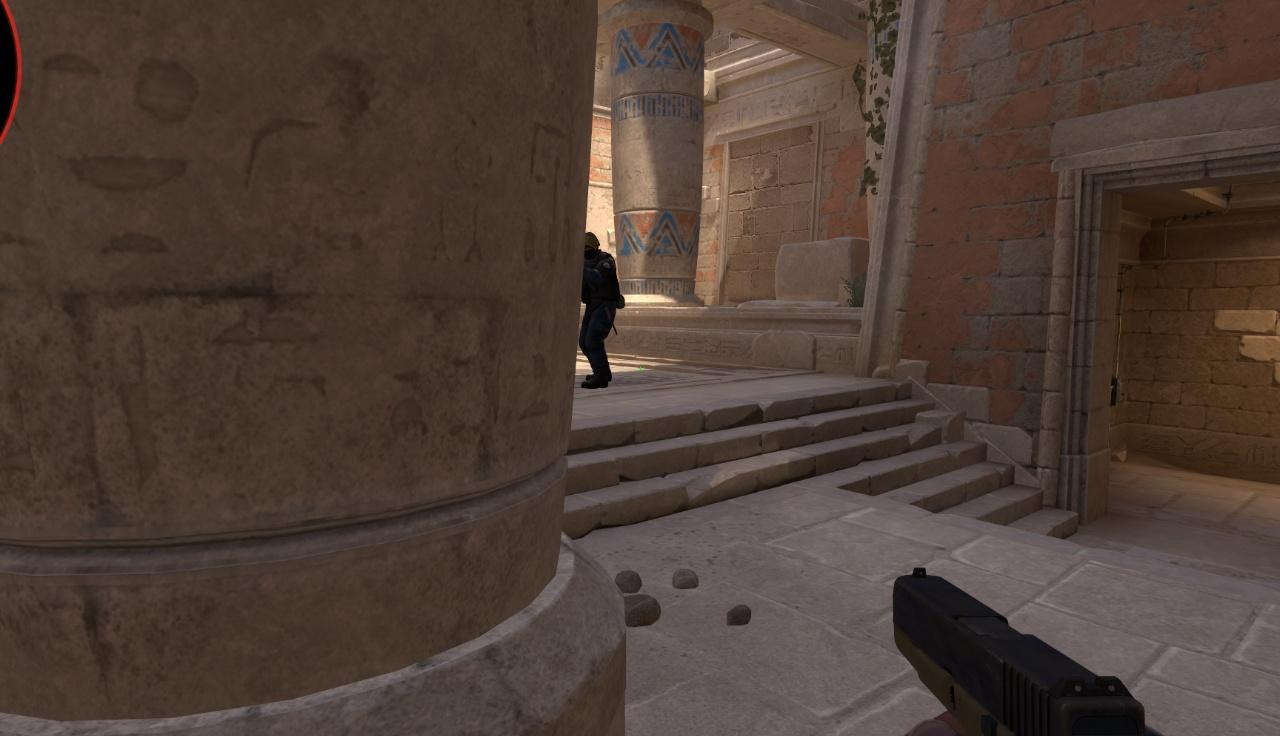ct: (579, 230, 617, 393)
cthead: (583, 232, 599, 258)
pistol: (895, 566, 1164, 736)
